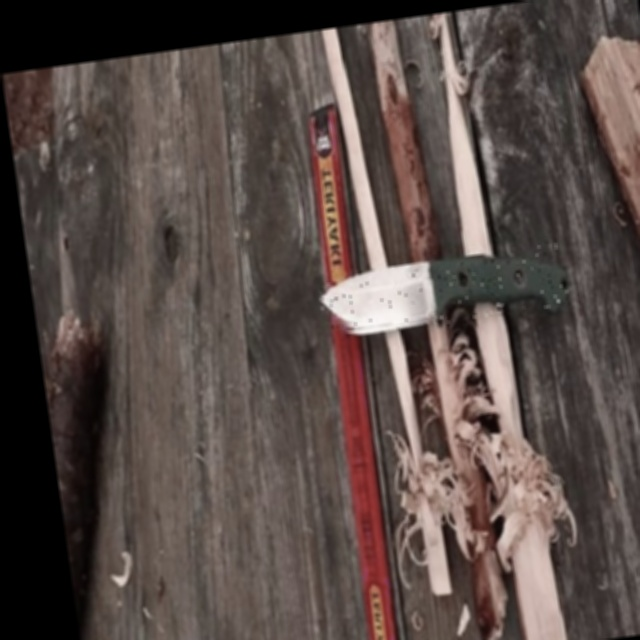Sharp-Object: (314, 242, 571, 340)
